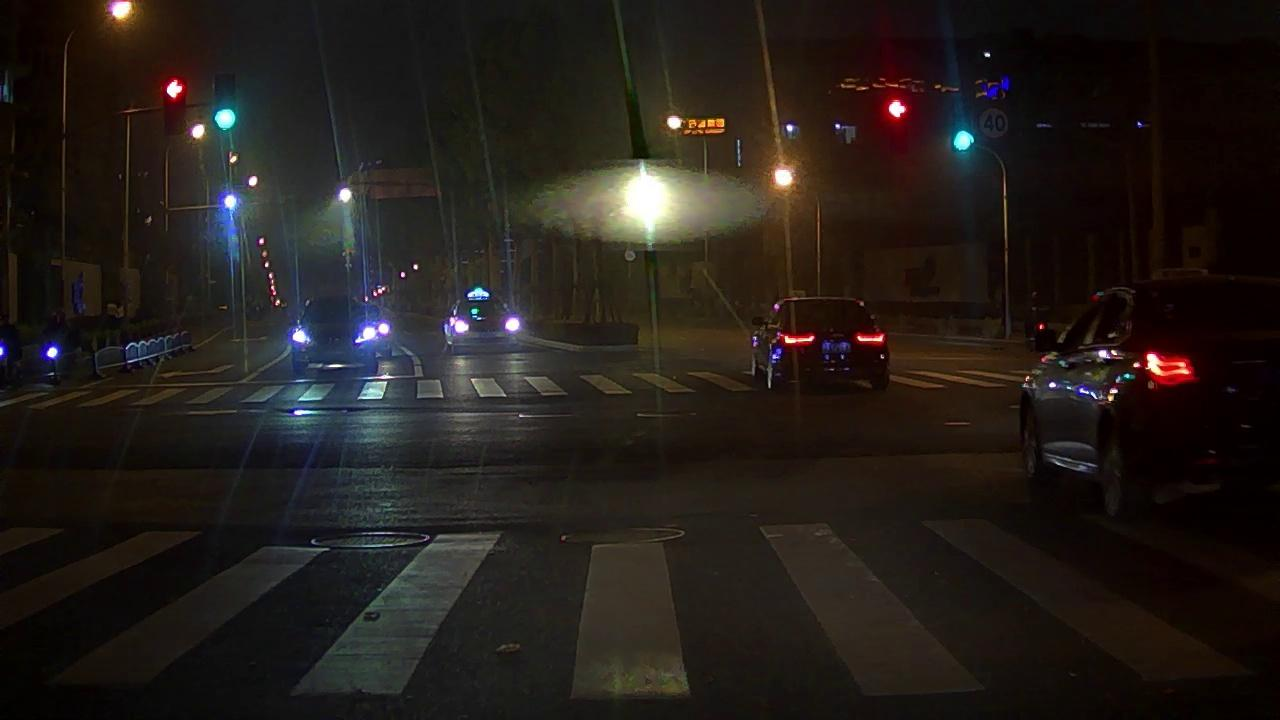traffic_light: (213, 76, 239, 130), (166, 79, 184, 127), (887, 98, 904, 119), (955, 131, 972, 152)
